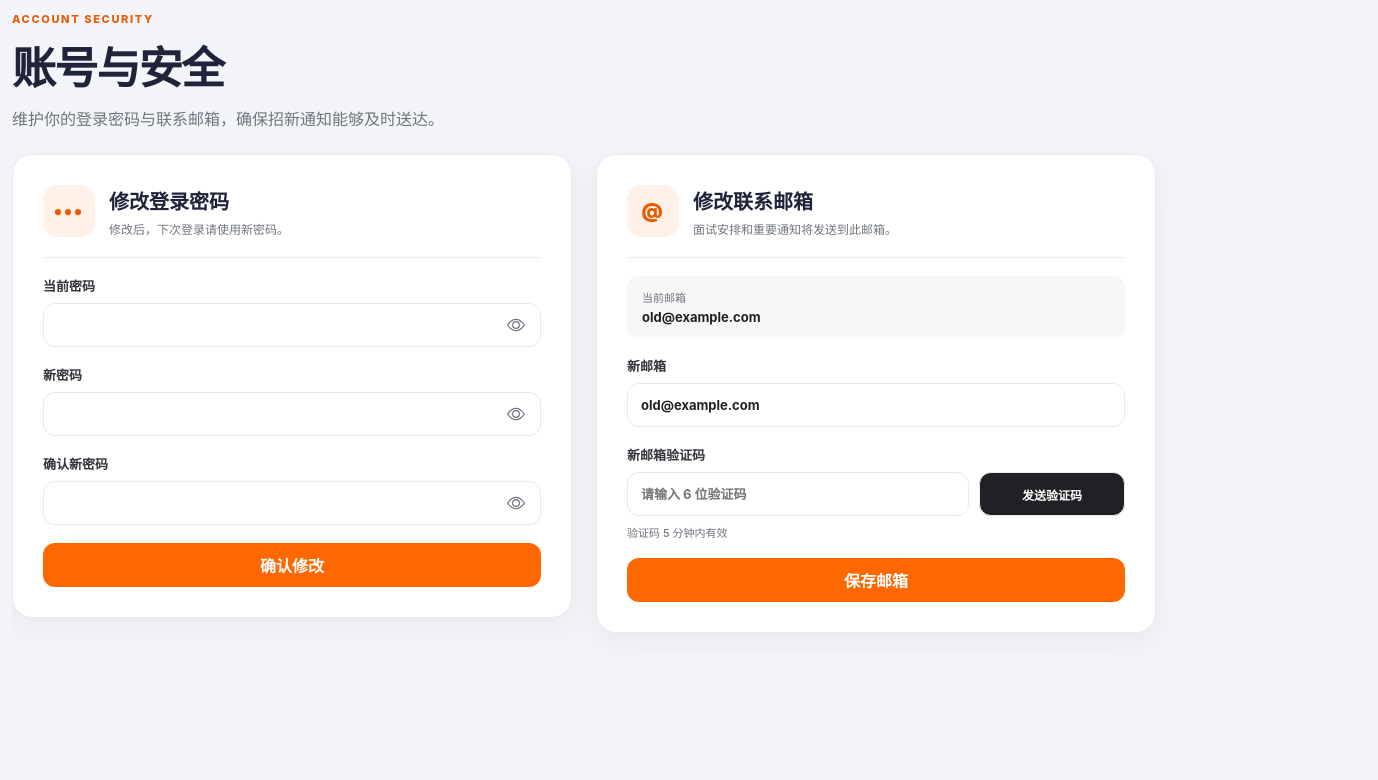
Test case: portal account security › requires a six-digit code before updating the freshman email
The width and height of the screenshot is (1378, 780).
Replace the text in the field named "email" with "new@example.com": (876, 405) [627,383,1125,427]
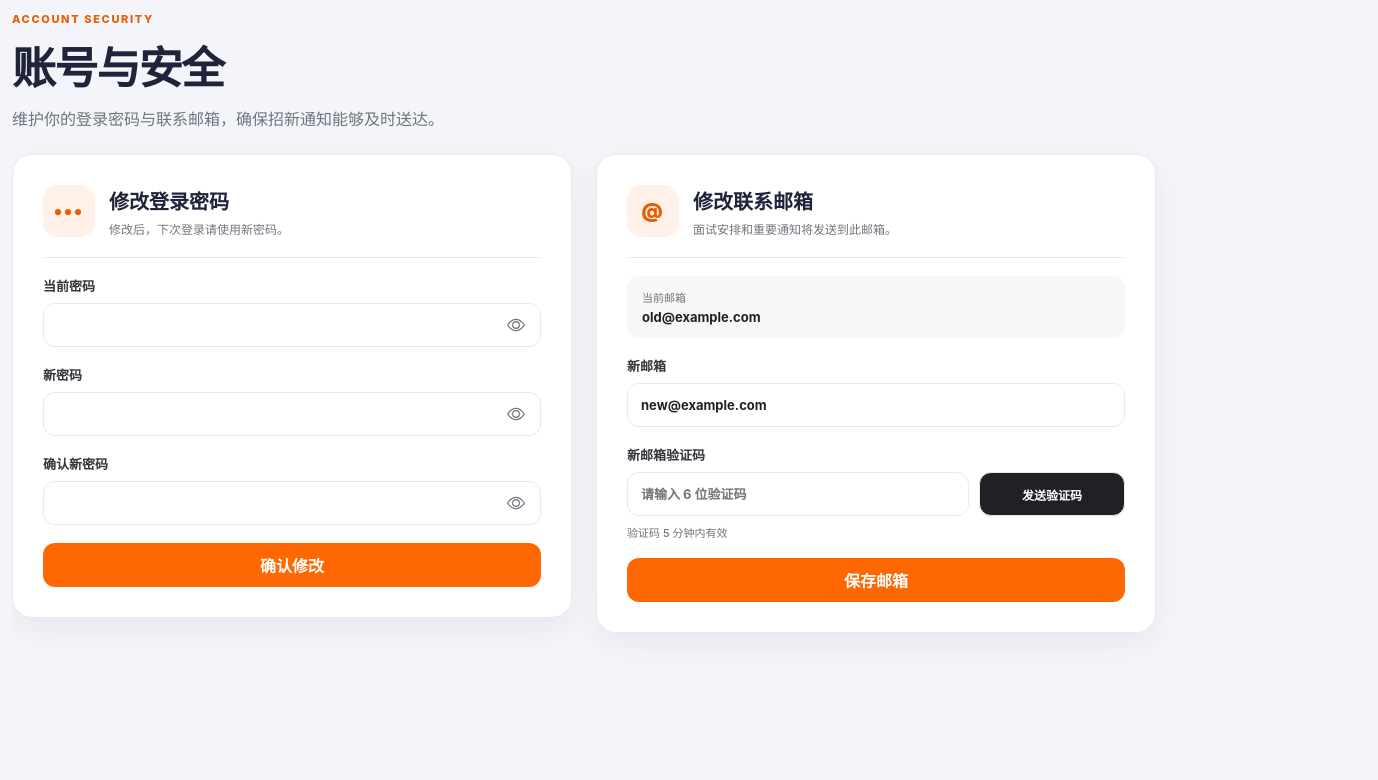
In the field named "emailCode": (798, 494) [627,472,969,516], type "12345"
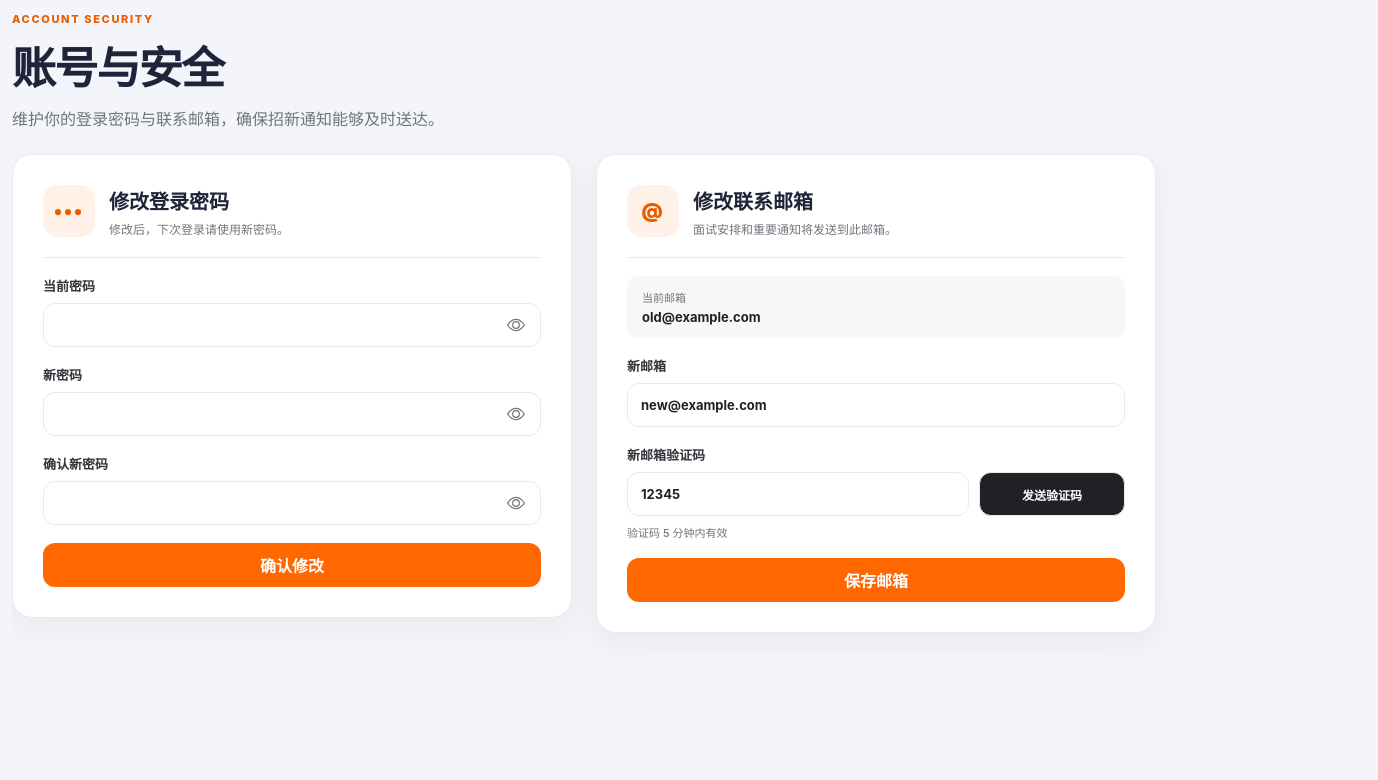
Submit the form with test id "email-card", box [596,154,1156,633]
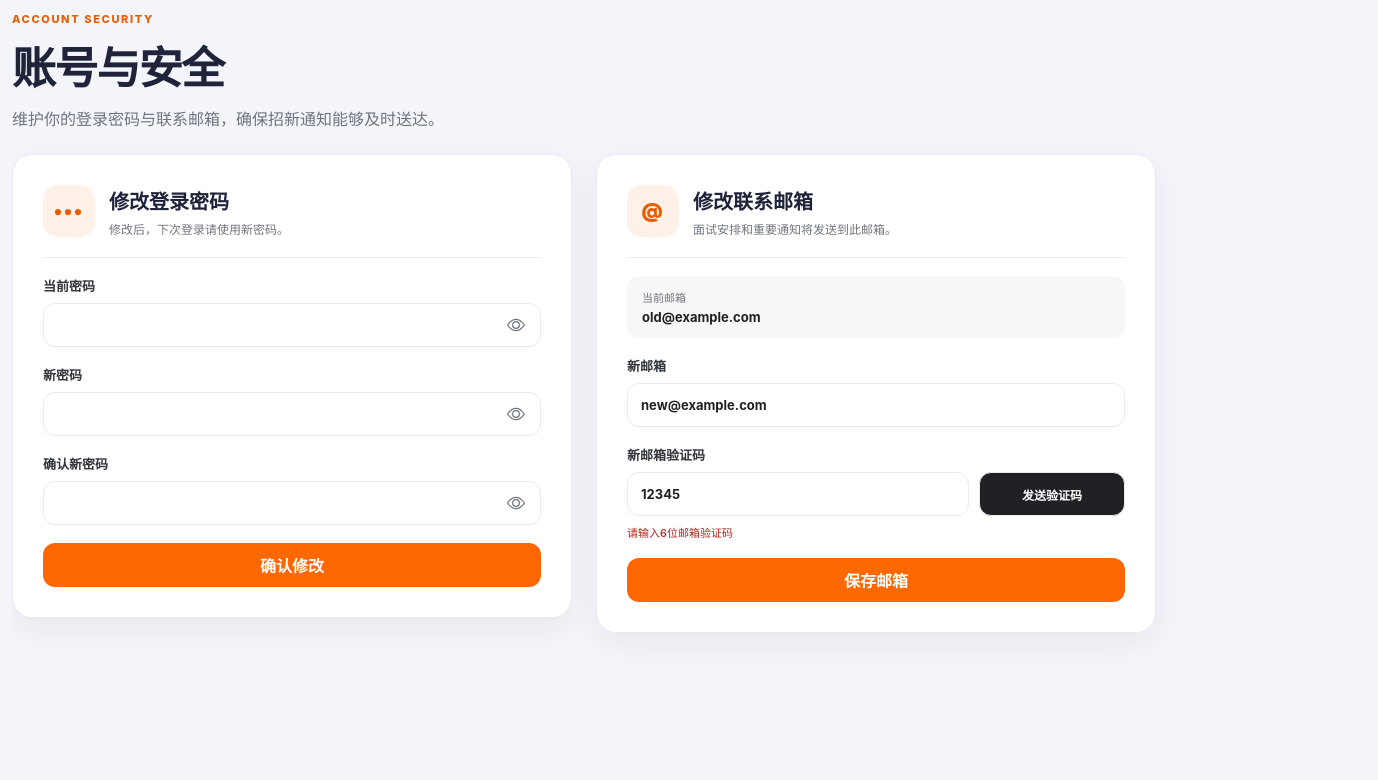
Now the text "请输入6位邮箱验证码" is shown, box [627,526,733,540]
